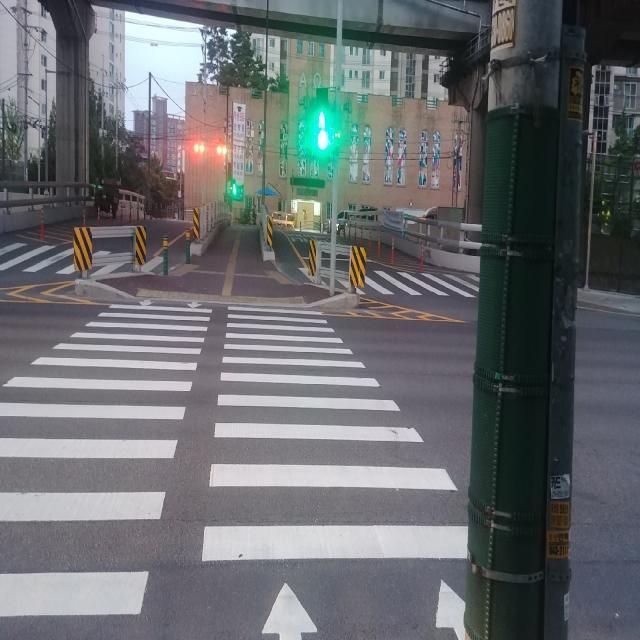초록불: (315, 87, 331, 156)
횡단보도: (83, 327, 468, 640), (0, 292, 210, 624), (218, 292, 386, 606), (0, 239, 144, 277), (358, 271, 476, 300)
